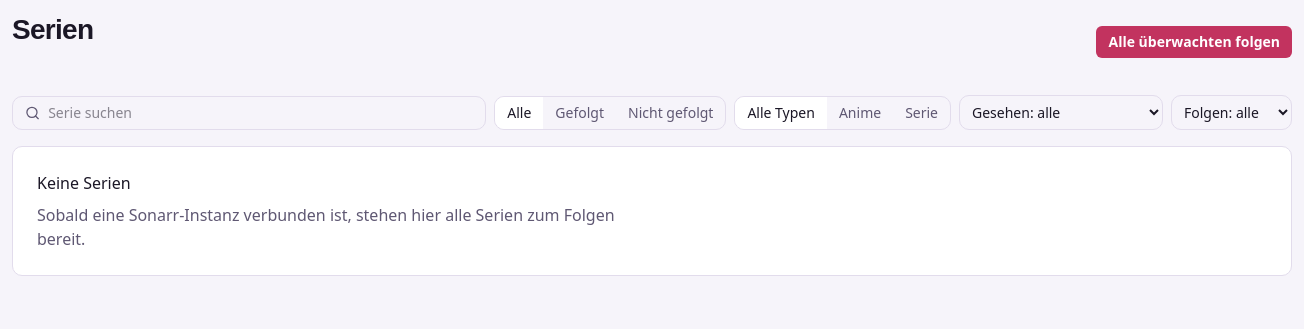
Scenario: follow all monitored reports how many were added
Expected: the heading "Keine Serien" is shown, [37, 172, 131, 194]
What coordinates should you click on to do the following:
click the button "Alle überwachten folgen"
I would click on:
 (1194, 42)
Its box is [1096, 26, 1292, 58].
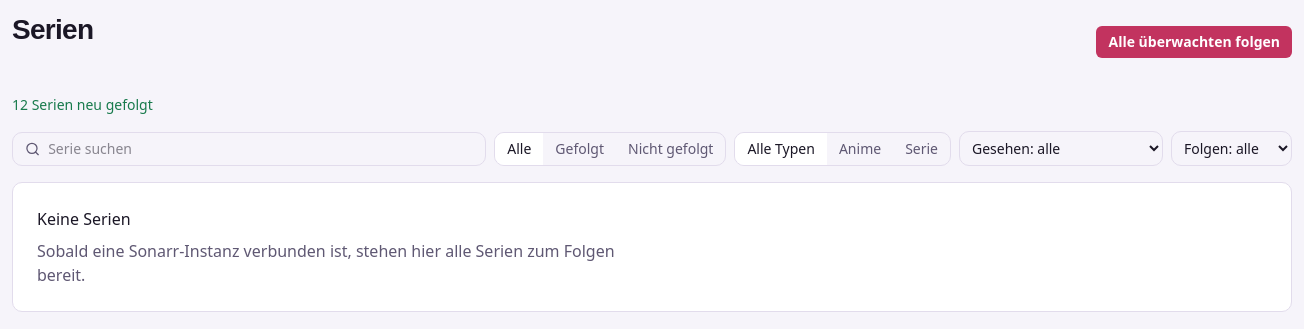
Result: the message reads "12 Serien neu gefolgt" at [12, 95, 153, 114]
